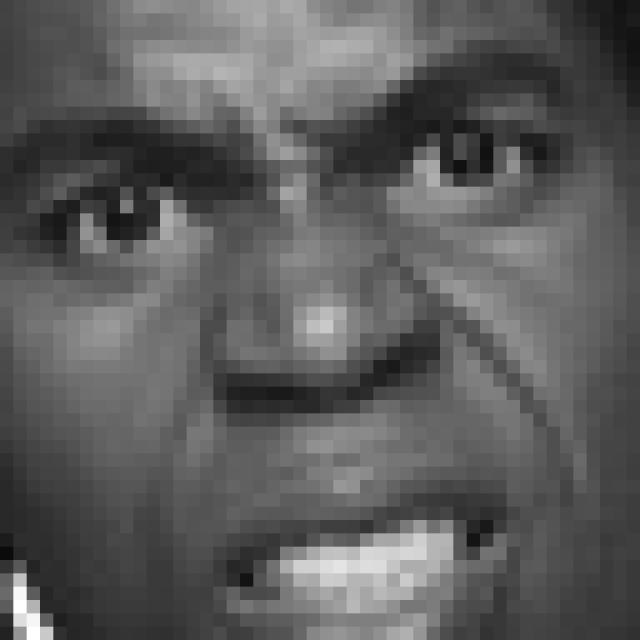disgust: (6, 37, 575, 640)
